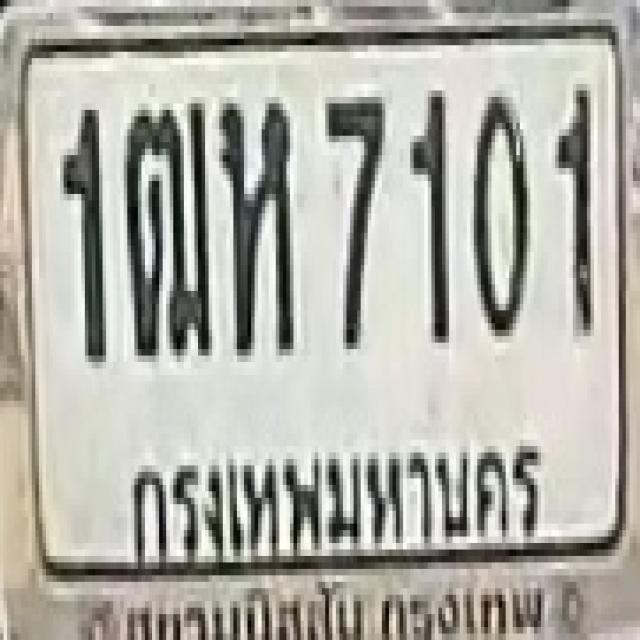0: (470, 91, 527, 336)
1: (60, 103, 103, 362), (406, 84, 446, 336), (555, 81, 591, 333)
7: (322, 90, 382, 342)
A18: (124, 97, 208, 356)
A41: (219, 97, 290, 349)
BKK: (115, 392, 556, 566)
